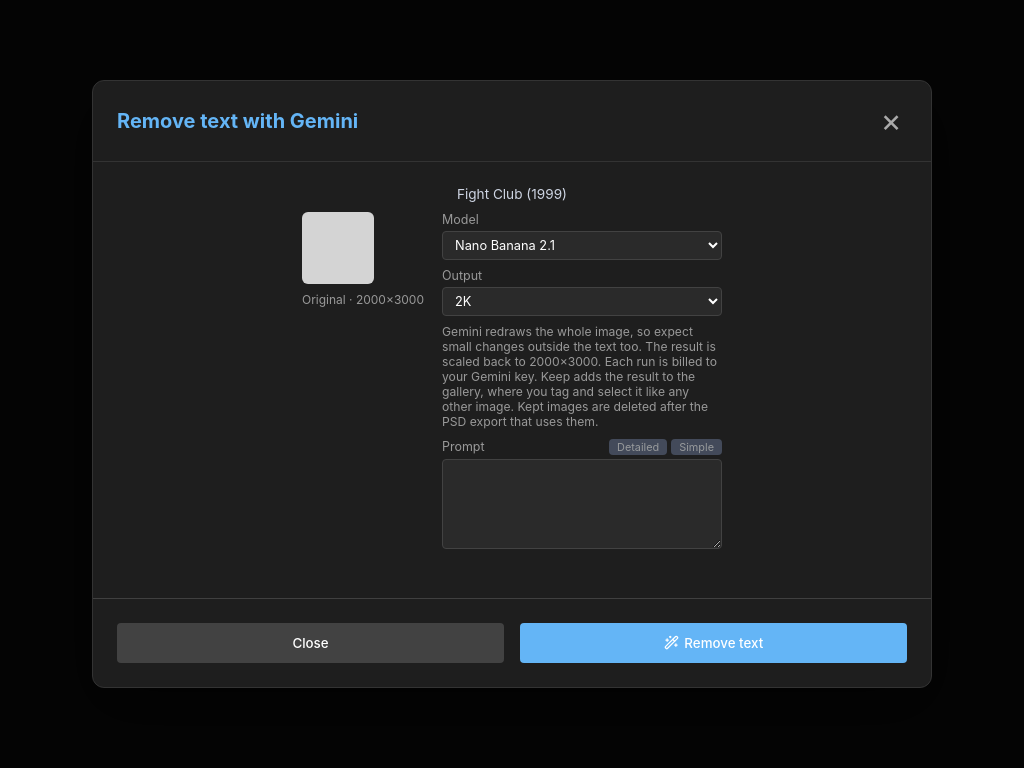
Scenario: GeminiImageModal › Keep pins the parked result and hands the tile to the card
The width and height of the screenshot is (1024, 768).
Check: the button "keep" is not shown
What coordinates should you click on to do the following:
click the button "Remove text"
I would click on:
 (714, 643)
Its box is x1=520 y1=623 x2=907 y2=663.
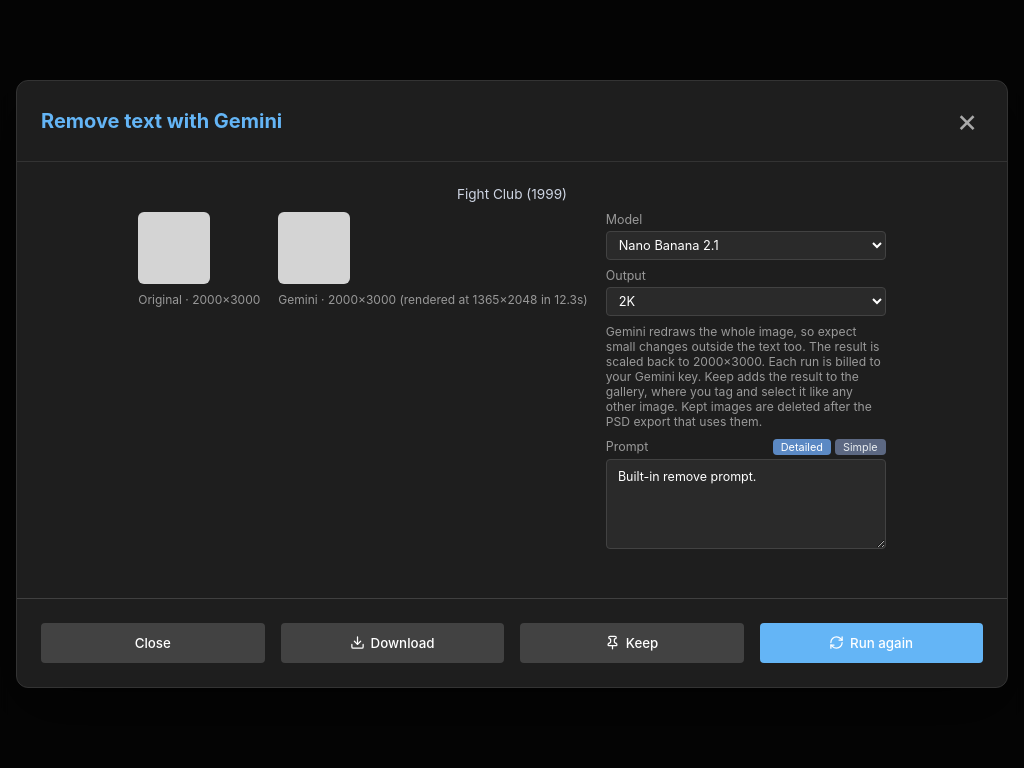
What coordinates should you click on to do the following:
click the button "Keep"
I would click on:
 (632, 643)
Its box is x1=520 y1=623 x2=744 y2=663.
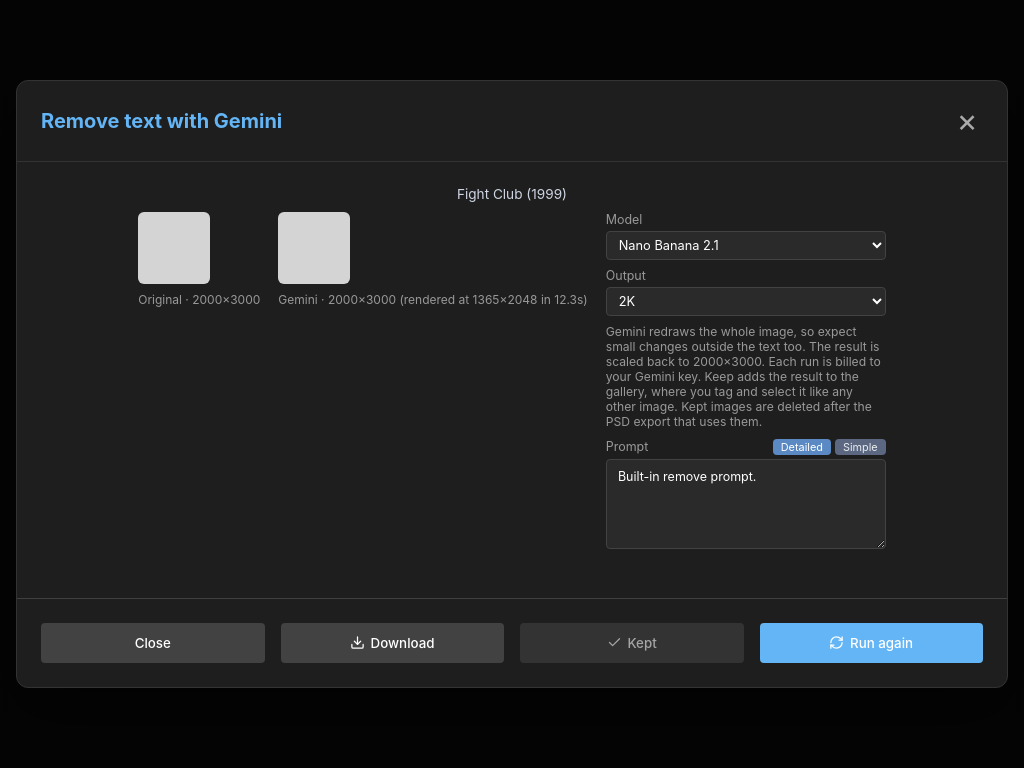
Check: the button "Kept" is disabled, box x1=520 y1=623 x2=744 y2=663
